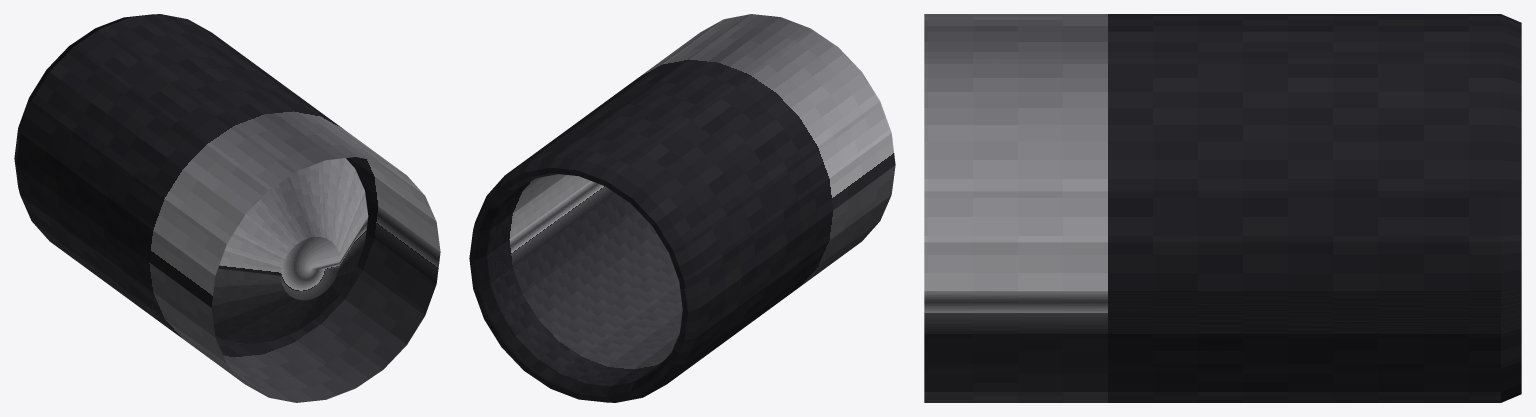
The model's file is exhaust_n1.obj.
3 renders of one model, left to right at view 1: azimuth 30°, elevation 25°; view 2: azimuth 150°, elevation 25°; view 3: azimuth 270°, elevation 25°, orthographic. The views are drawn at different scales.
Bounding box in the file's own units: 0.176 × 0.176 × 0.2693.
Materials: 1 (1 with a texture image).
